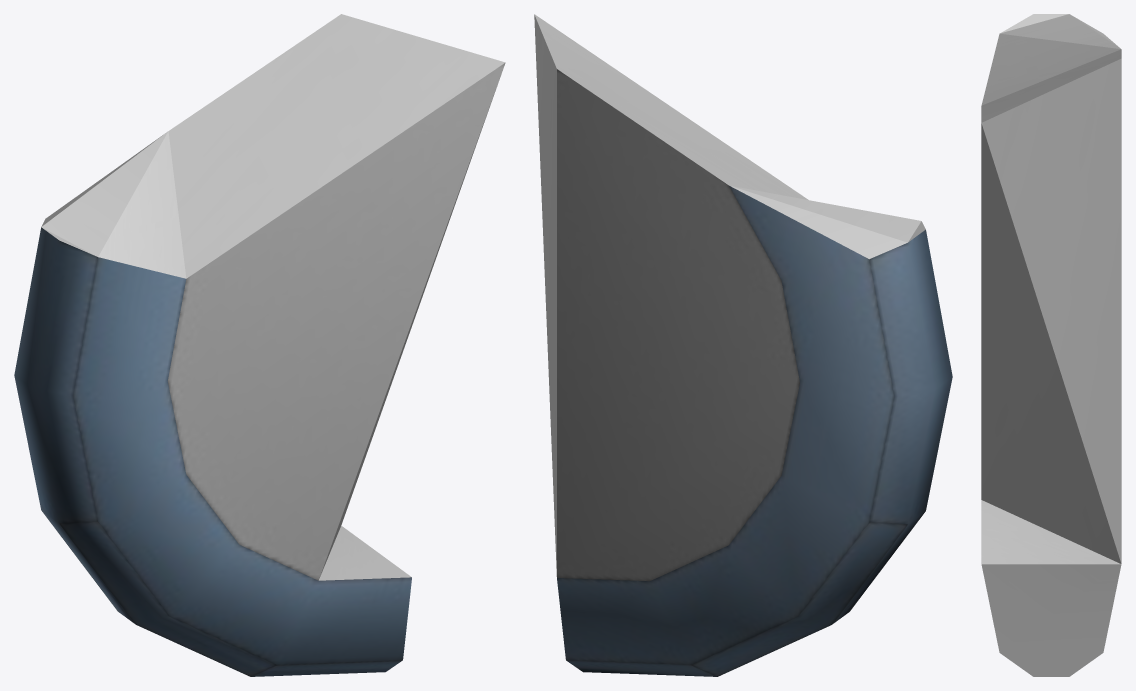
Rendered from targetShard2.obj.
3 renders of one model, left to right at view 1: azimuth 30°, elevation 25°; view 2: azimuth 150°, elevation 25°; view 3: azimuth 270°, elevation 25°, orthographic.
Parts seen in each view (by area): view 1: Object002; view 2: Object002; view 3: Object002.
Part boxes in pixels (box(x1,y1,x2,y2)): Object002: box(14, 14, 505, 676); Object002: box(534, 14, 952, 676); Object002: box(981, 14, 1121, 676).
Bounding box in the file's own units: 50.14 × 67.07 × 13.76.
1 material, 1 textured.
